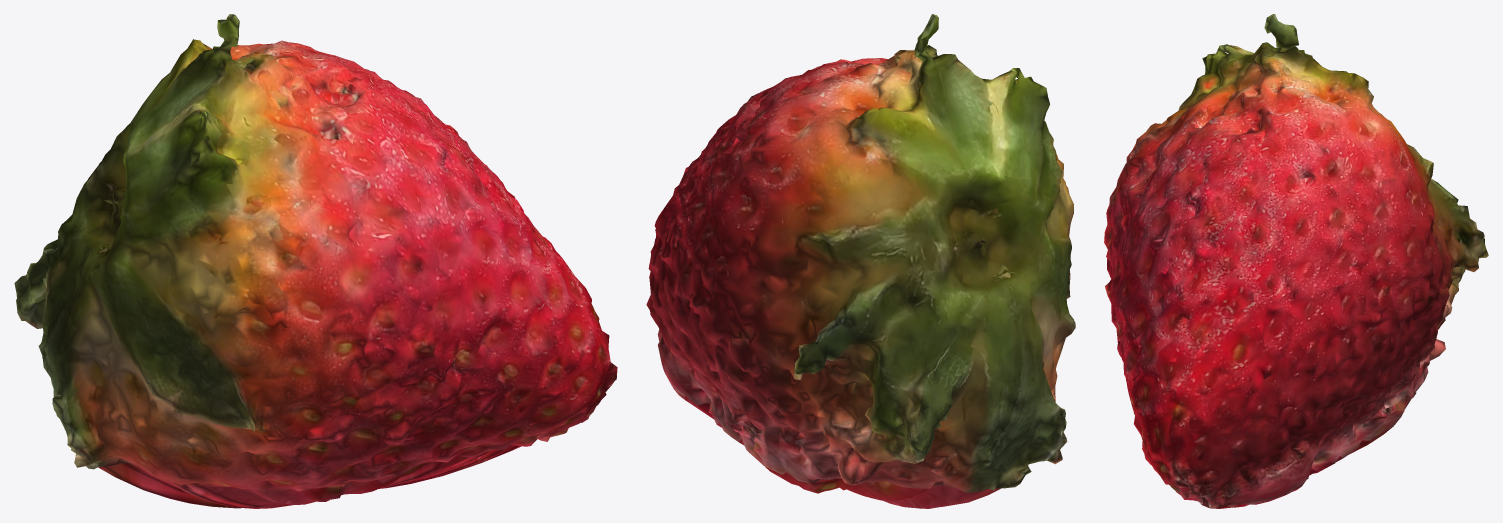
The model's file is strawberry-b.glb.
3 renders of one model, left to right at view 1: azimuth 30°, elevation 25°; view 2: azimuth 150°, elevation 25°; view 3: azimuth 270°, elevation 25°, orthographic. The views are drawn at different scales.
Visible parts, largest first — view 1: Model_material0_0; view 2: Model_material0_0; view 3: Model_material0_0.
Boxes of the visible parts, box(x1,y1,x2,y2) form: Model_material0_0: box(14, 14, 617, 508); Model_material0_0: box(646, 14, 1075, 508); Model_material0_0: box(1104, 14, 1488, 508).
Bounding box in the file's own units: 0.0395 × 0.0398 × 0.033.
Materials: 1 (1 with a texture image).
